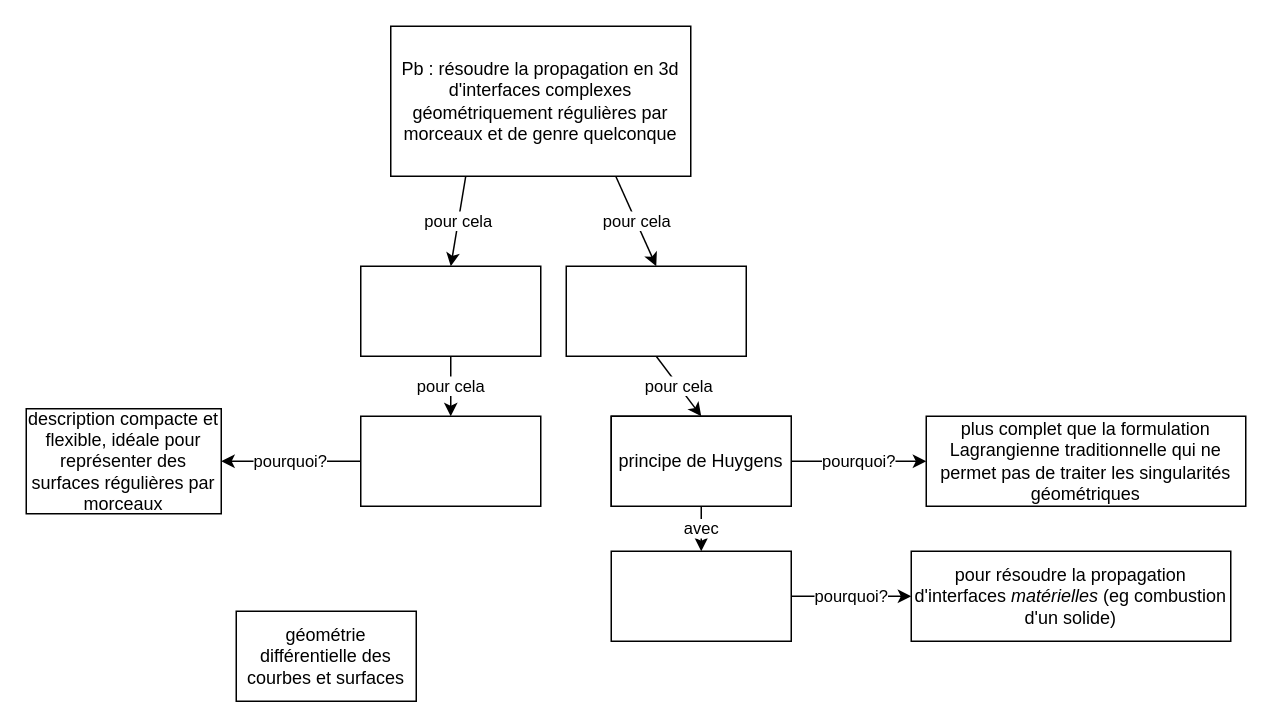
This 1272x728 diagram has some shape labels left out. The centre of each missing label's shape, as x and y in pixels:
"besoin d'une représentation numérique de l'interface" belongs at (450,310).
"BRep" belongs at (450,460).
"condition d'entropie" belongs at (700,595).
"formulation mathématique du problème de propagation" belongs at (655,310).
